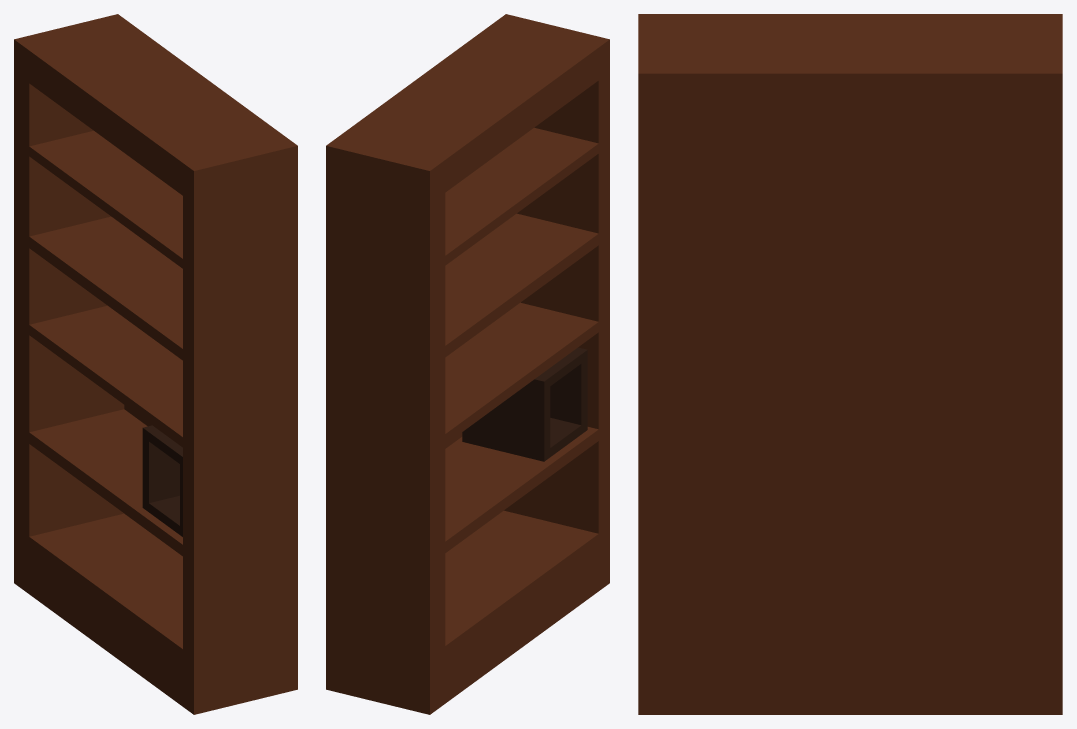
The model's file is MD_Book Shelf.FBX.
3 renders of one model, left to right at view 1: azimuth 30°, elevation 25°; view 2: azimuth 150°, elevation 25°; view 3: azimuth 270°, elevation 25°, orthographic. The views are drawn at different scales.
Parts seen in each view (by area): view 1: MD_Book Shelf, MD_Block; view 2: MD_Book Shelf, MD_Block; view 3: MD_Book Shelf.
Boxes of the visible parts, x1=… form: MD_Book Shelf: x1=14, y1=14, x2=297, y2=714; MD_Block: x1=142, y1=425, x2=182, y2=536; MD_Book Shelf: x1=326, y1=14, x2=609, y2=714; MD_Block: x1=462, y1=347, x2=587, y2=461; MD_Book Shelf: x1=638, y1=14, x2=1062, y2=714.
Bounding box in the file's own units: 50 × 250 × 150.
